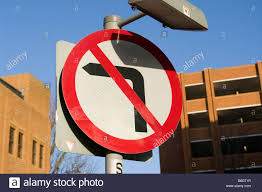No_left_turn: (60, 29, 183, 154)
